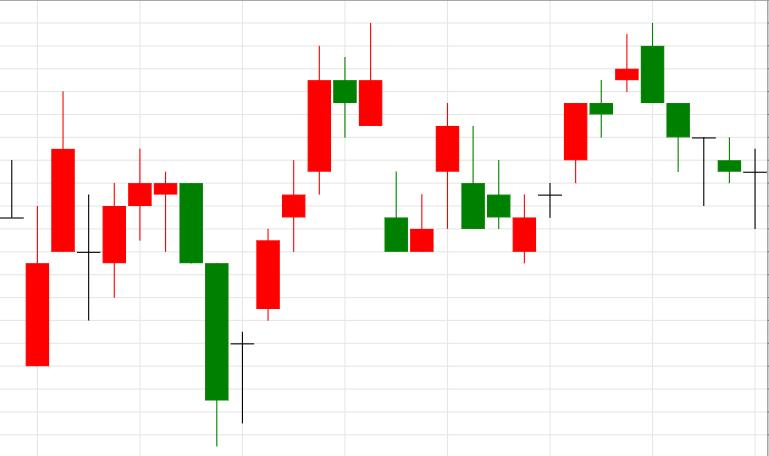bearish_engulfing_fall: (513, 23, 664, 263)
